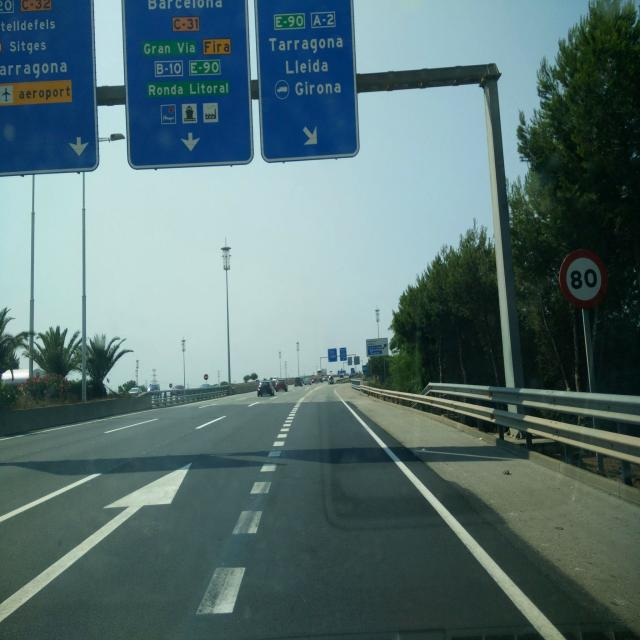car: (256, 380, 276, 398), (273, 378, 289, 393), (128, 386, 144, 396), (294, 376, 304, 387), (327, 376, 335, 384)
